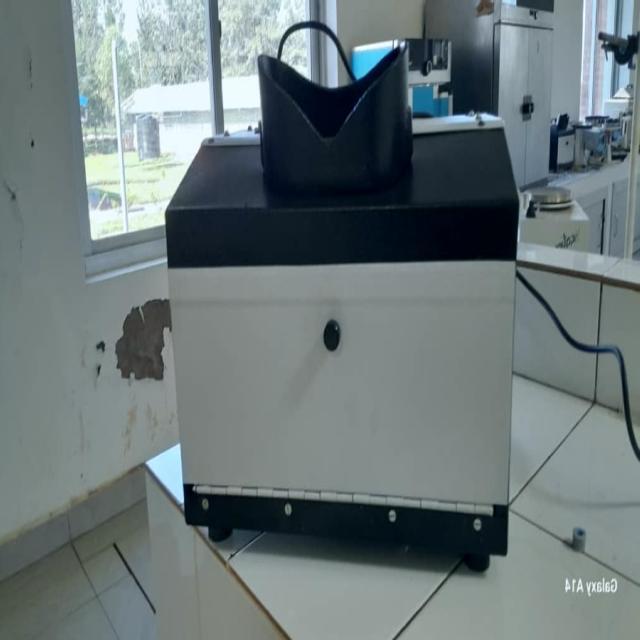U.V Cabinet: (165, 42, 518, 558)
